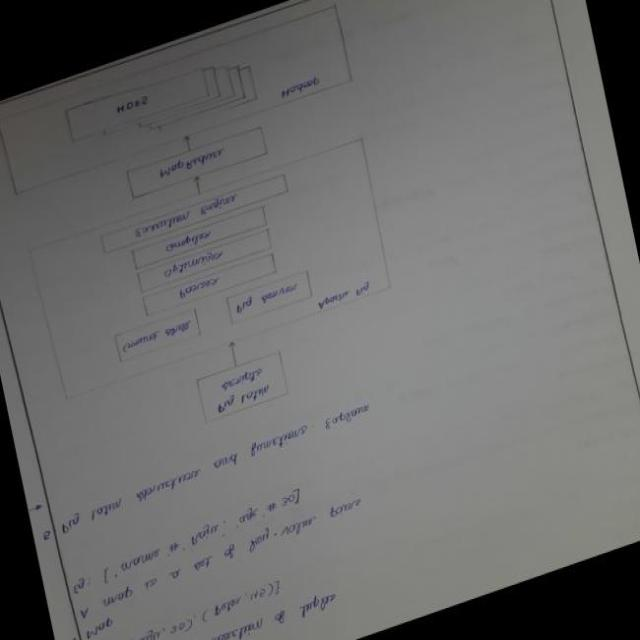Figure Detection - v3 Dataset Version2: (0, 0, 436, 483)
